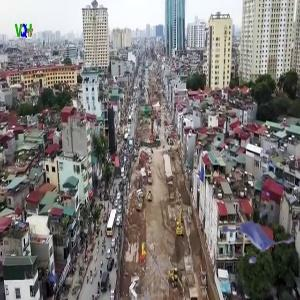drone: (206, 198, 289, 281)
